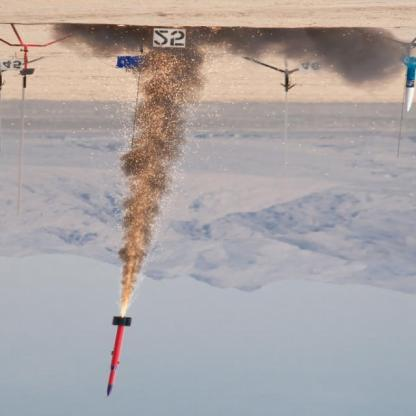MIL_TBM: (104, 313, 134, 402), (401, 54, 416, 109)
